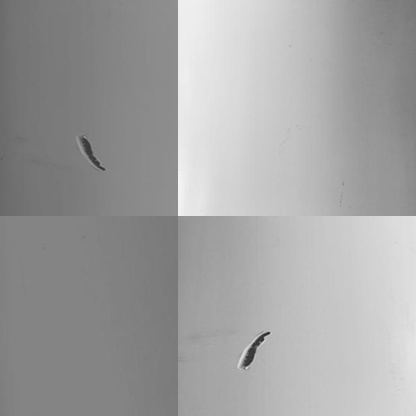kongdong: (233, 327, 273, 373), (73, 132, 109, 172)
